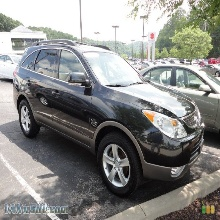no damage: (12, 39, 204, 197), (140, 62, 220, 137), (1, 53, 21, 83)
